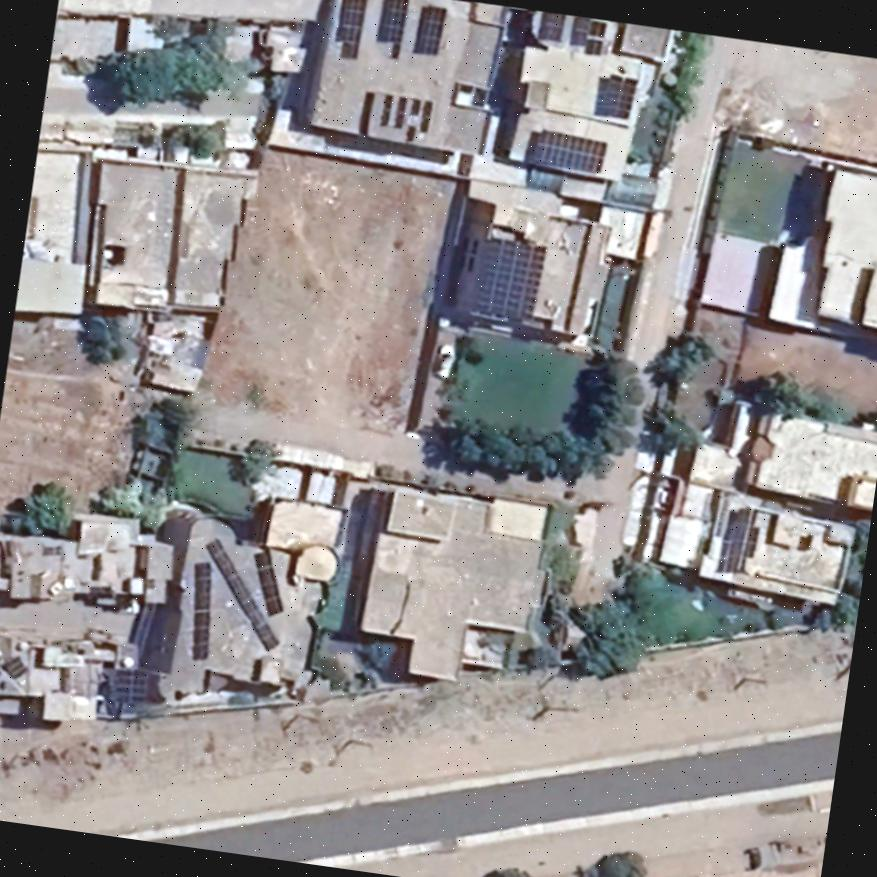Solarpanel: (201, 535, 280, 650), (468, 236, 545, 324), (526, 126, 606, 177), (249, 546, 285, 613), (715, 504, 747, 576), (331, 0, 367, 59), (372, 0, 407, 59), (188, 558, 208, 658), (411, 2, 448, 54), (594, 74, 635, 117), (109, 667, 146, 707), (538, 11, 566, 42), (566, 17, 587, 48), (581, 35, 604, 55), (588, 18, 605, 39)
